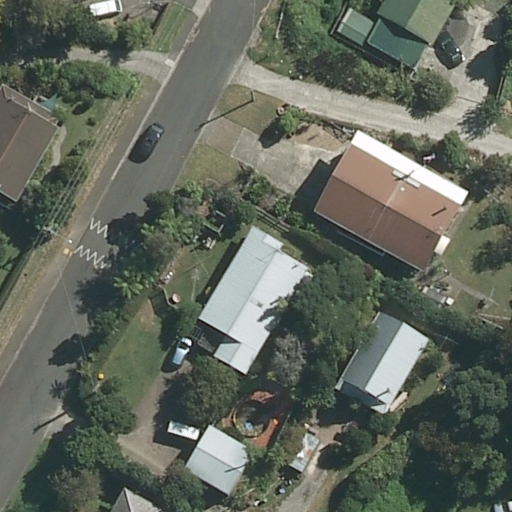DT: (31, 219, 67, 248), (242, 79, 262, 106), (86, 377, 106, 400)
